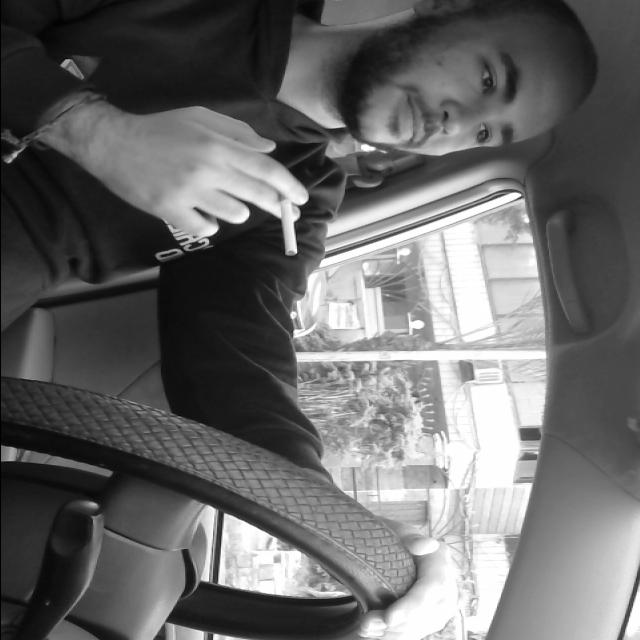smoking: (270, 172, 306, 258)
